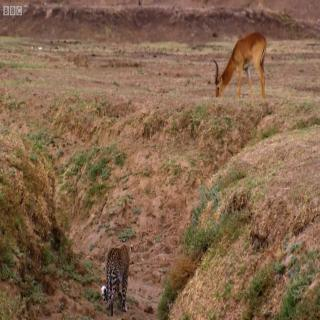Leopard: (94, 231, 138, 320)
